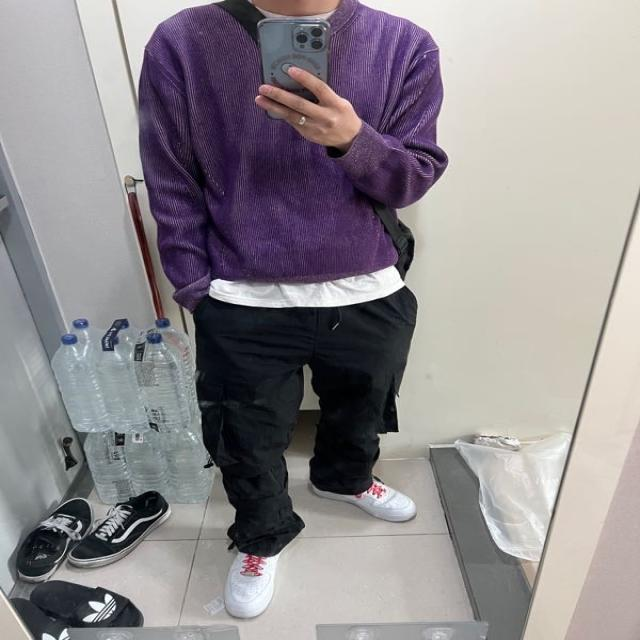cottonpants: (196, 285, 421, 561)
sweater: (137, 0, 446, 311)
